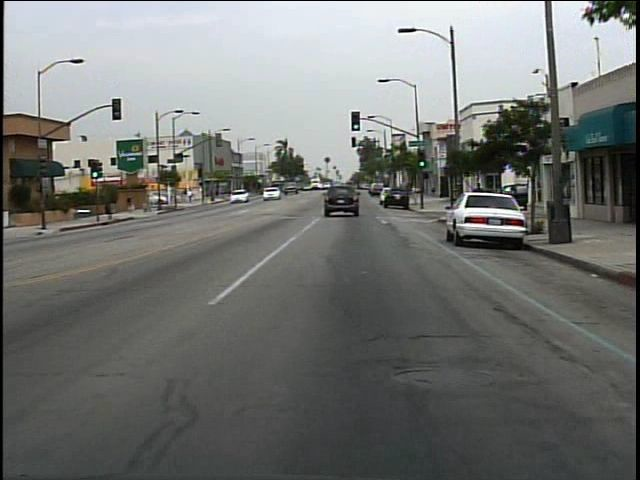person: (469, 178, 489, 217), (122, 192, 142, 221), (186, 187, 196, 206)
